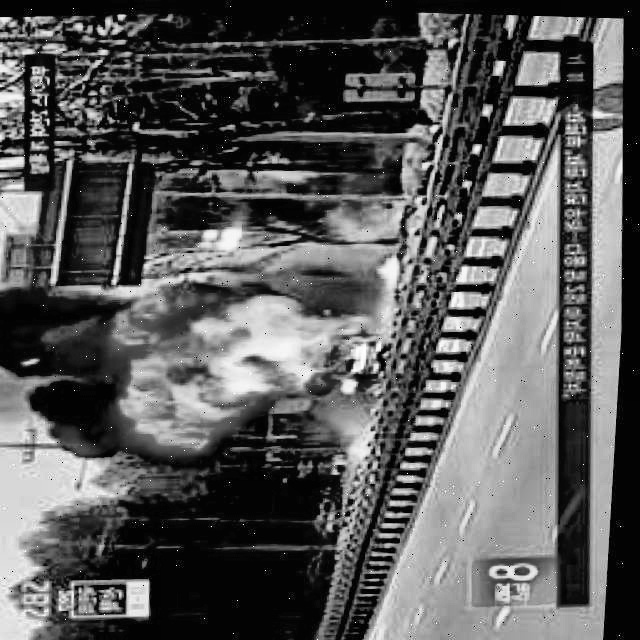Fire: (102, 266, 394, 457), (378, 247, 411, 279)
Smoke: (0, 279, 136, 463)
